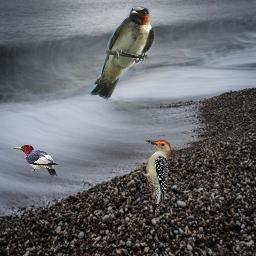Swallow: (88, 4, 155, 100)
Woodpecker: (131, 140, 171, 218), (13, 145, 58, 177)
